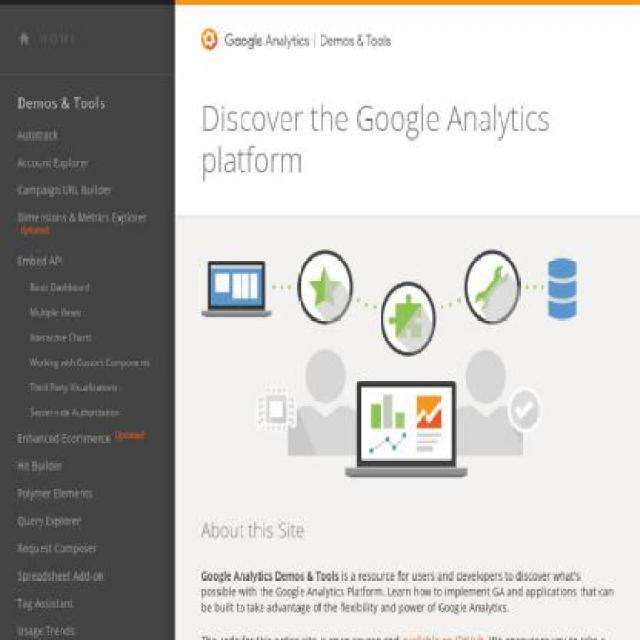button: (0, 203, 175, 247), (0, 121, 175, 150), (0, 148, 175, 177), (0, 175, 175, 204), (0, 246, 175, 275), (0, 424, 175, 453), (0, 478, 175, 507), (0, 534, 175, 563), (0, 588, 175, 617), (0, 452, 175, 479), (0, 507, 175, 534), (0, 562, 175, 589), (0, 274, 175, 300), (0, 299, 175, 325), (0, 324, 175, 350), (0, 349, 175, 375), (0, 374, 175, 400), (0, 399, 175, 425), (0, 616, 175, 638), (17, 27, 89, 50)
